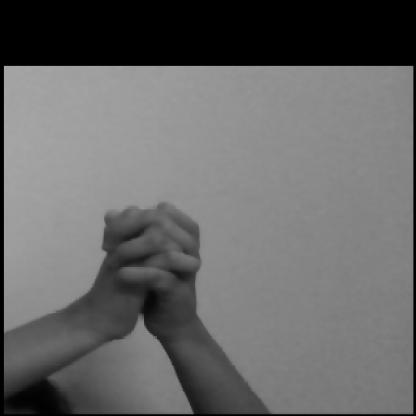prayer: (39, 191, 257, 350)
